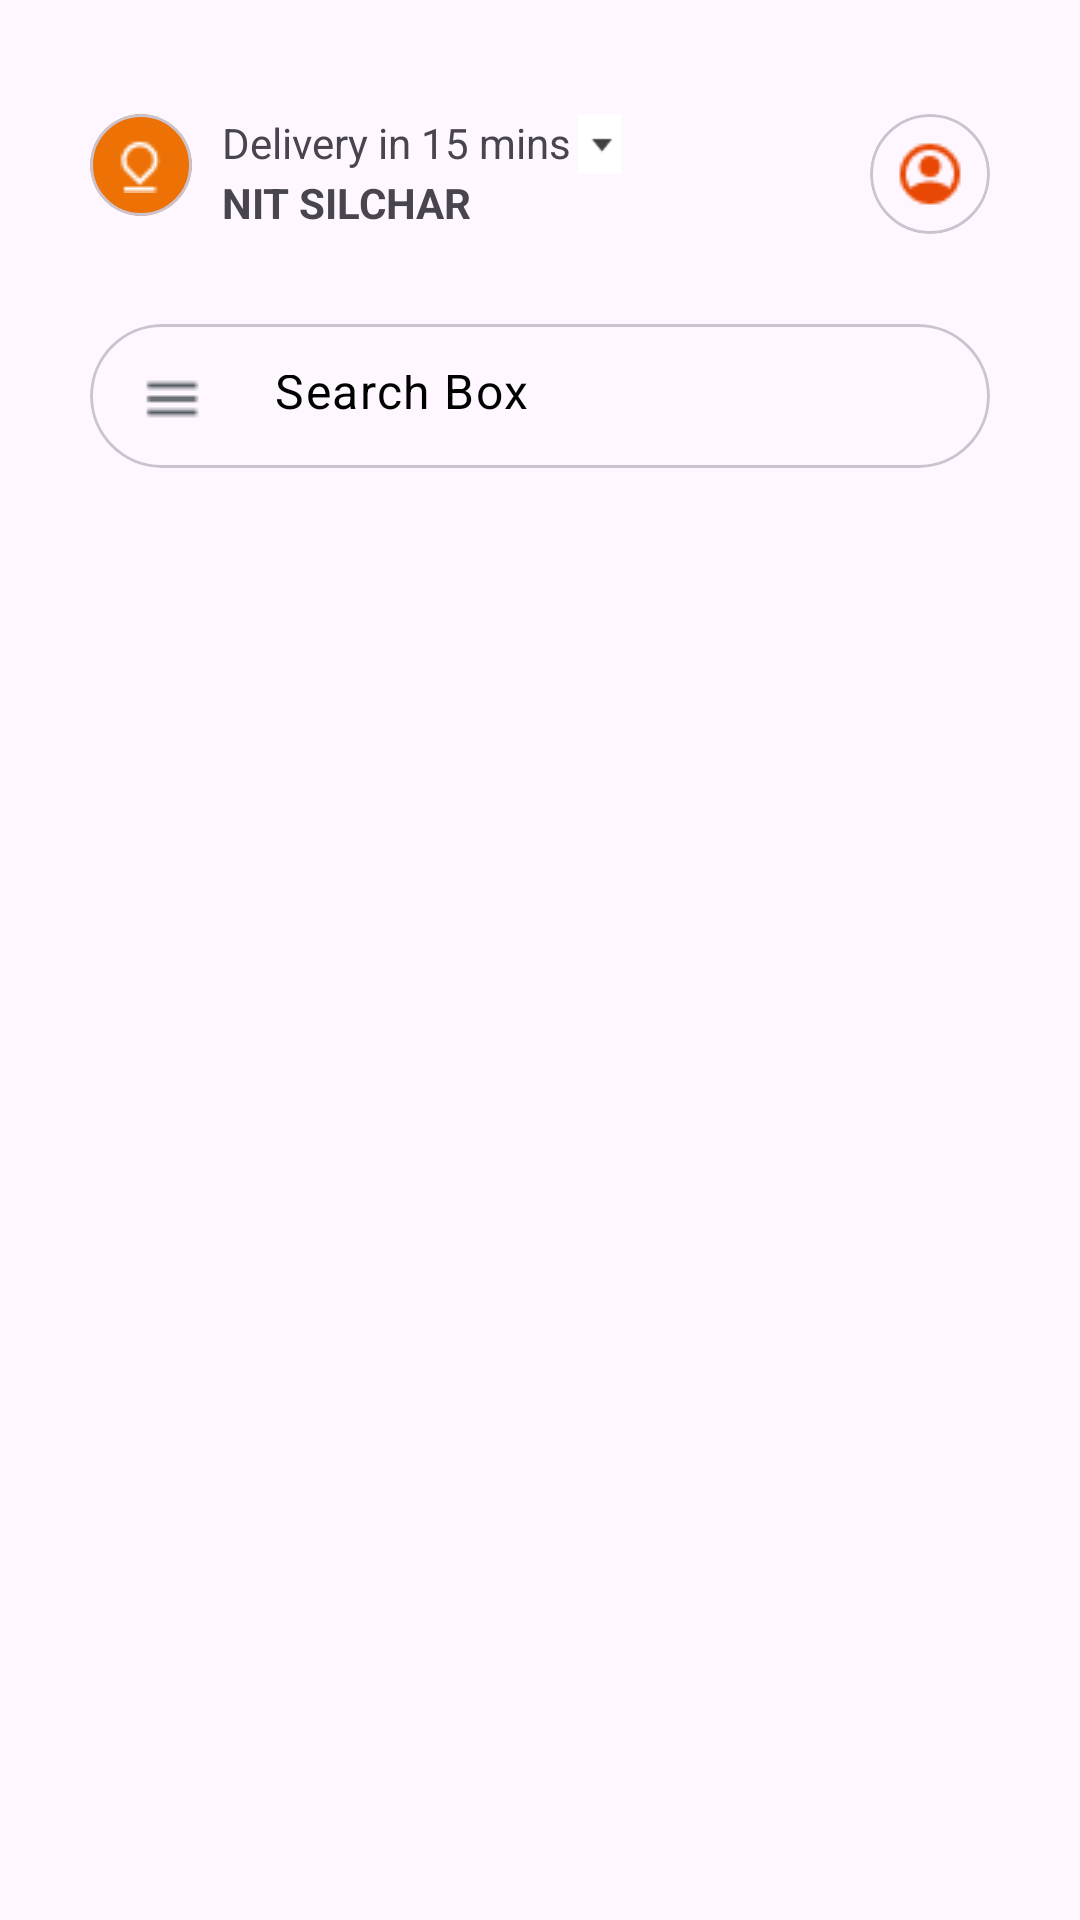

Icons on this 1080×1920 Android screen, each with the point to tap as (x=x, y=y):
account circle: (x=930, y=174)
ri map pin line: (x=140, y=167)
